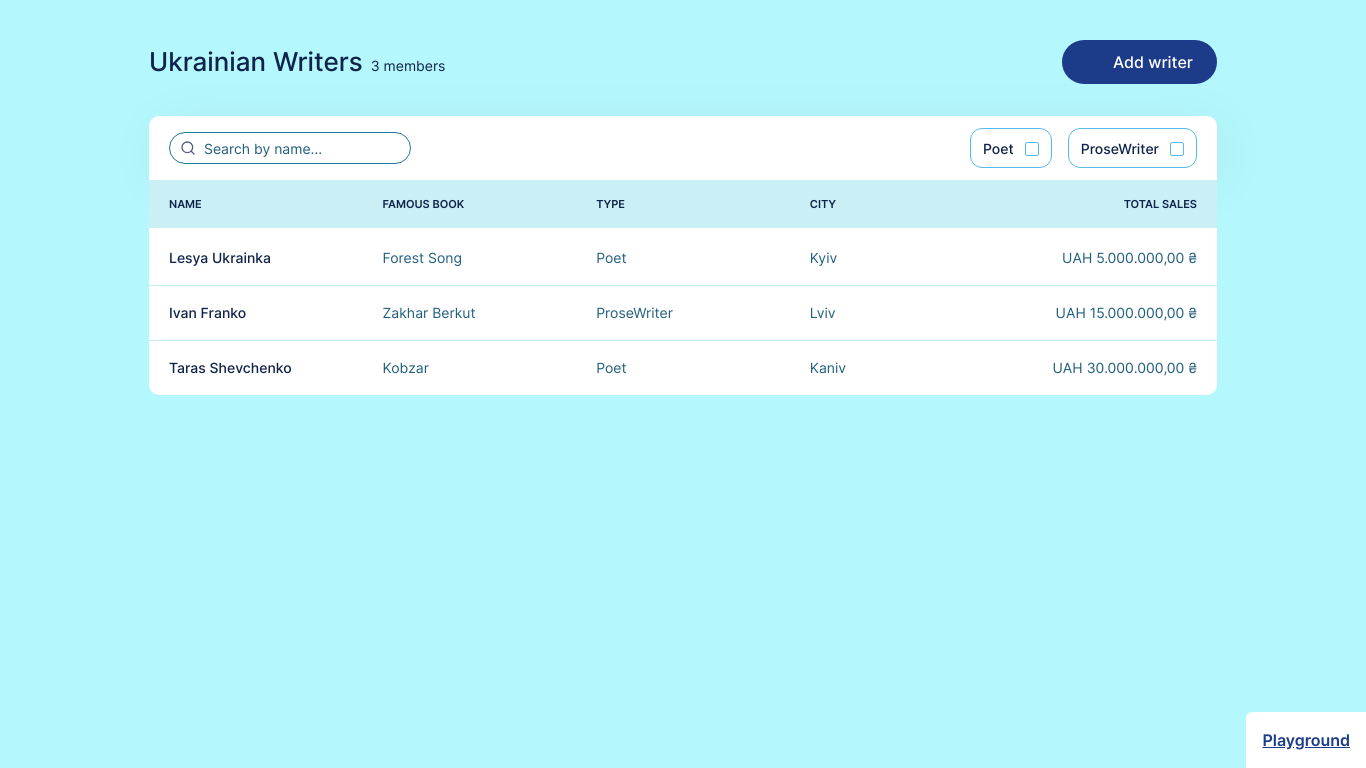
PeoplePage › PeoplePage search and filter behaviour › should filter the table my employemt poet
This screenshot has width=1366, height=768.
Click the checkbox named "Filter by poet".
click(1032, 148)  # box left=1025, top=142, right=1039, bottom=156
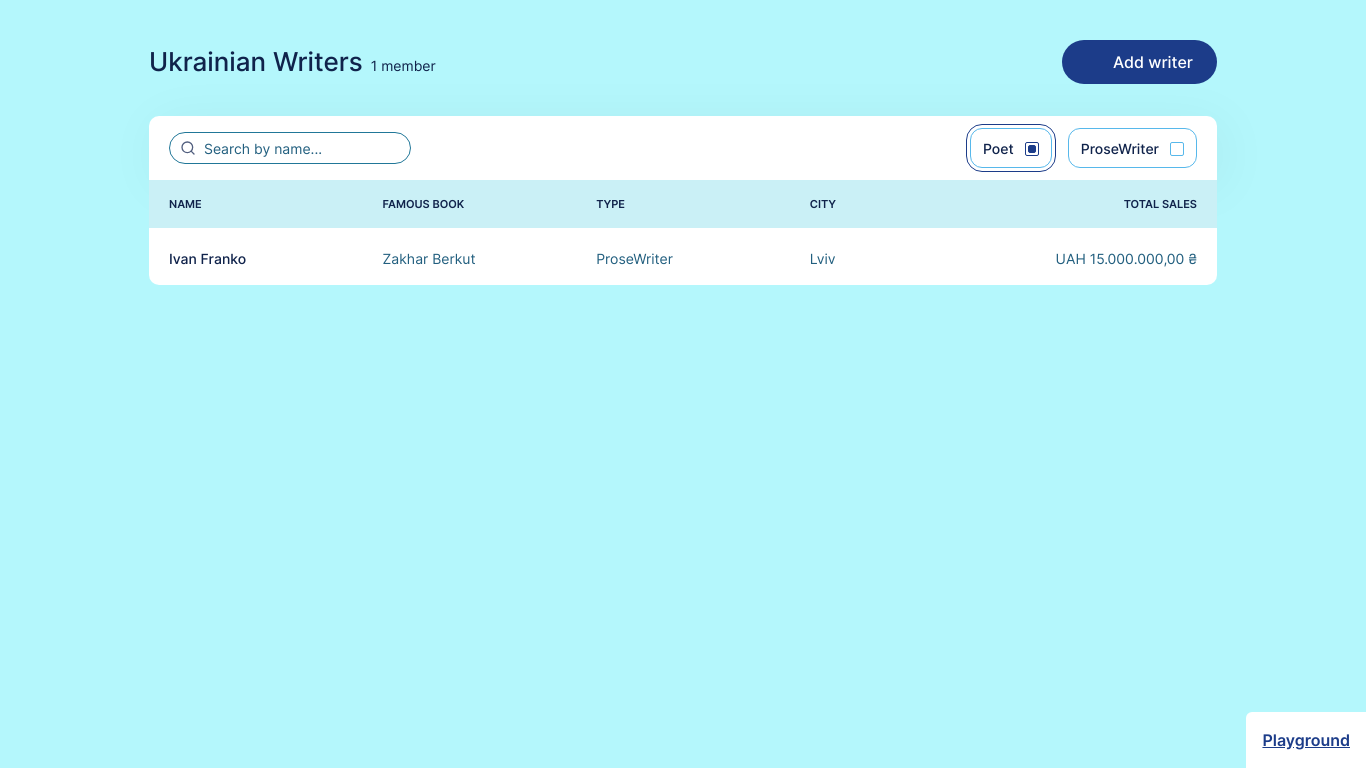
Expected: the number of rows is 2, left=149, top=180, right=1217, bottom=230; left=149, top=230, right=1217, bottom=285
Now the text "Lesya Ukrainka" is gone
